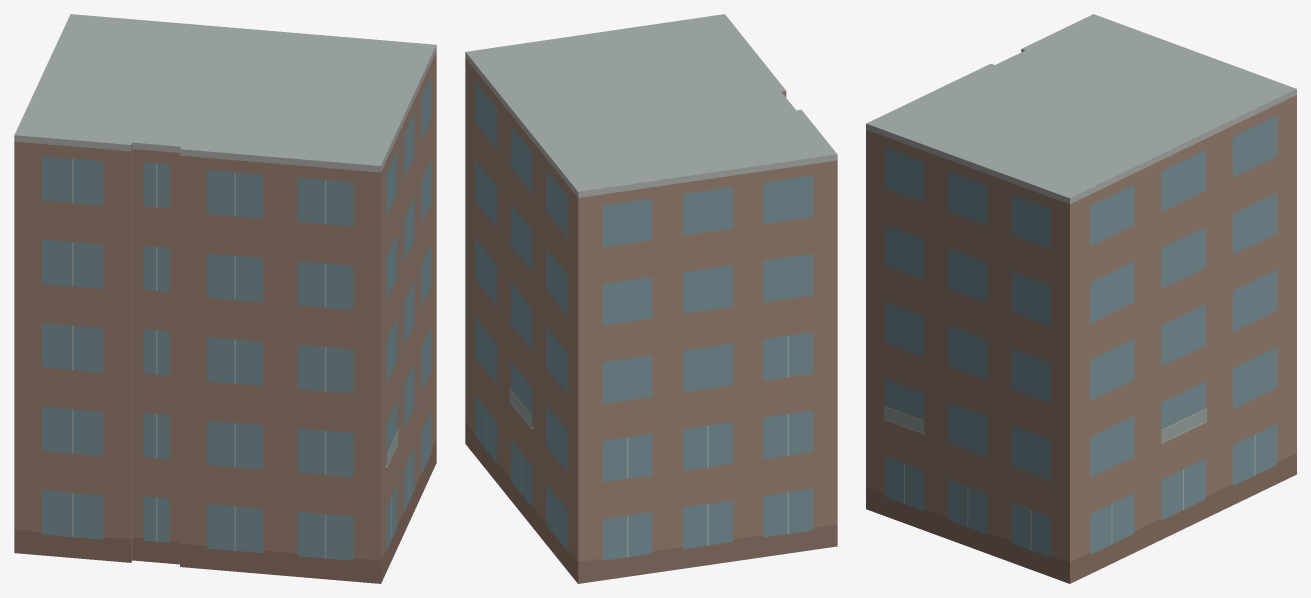
File: survey-upis-32885832.glb
The picture shows the model from 3 angles, left to right: view 1: azimuth 30°, elevation 25°; view 2: azimuth 150°, elevation 25°; view 3: azimuth 270°, elevation 25°; orthographic projection. The views are drawn at different scales.
Parts seen in each view (by area): view 1: survey-upis-32885832.tmp; view 2: survey-upis-32885832.tmp; view 3: survey-upis-32885832.tmp.
Boxes of the visible parts, box(x1,y1,x2,y2) form: survey-upis-32885832.tmp: box(14, 14, 436, 583); survey-upis-32885832.tmp: box(465, 14, 837, 583); survey-upis-32885832.tmp: box(866, 14, 1296, 583).
Size of the model in its own units: 16.21 by 15.8 by 16.01.
